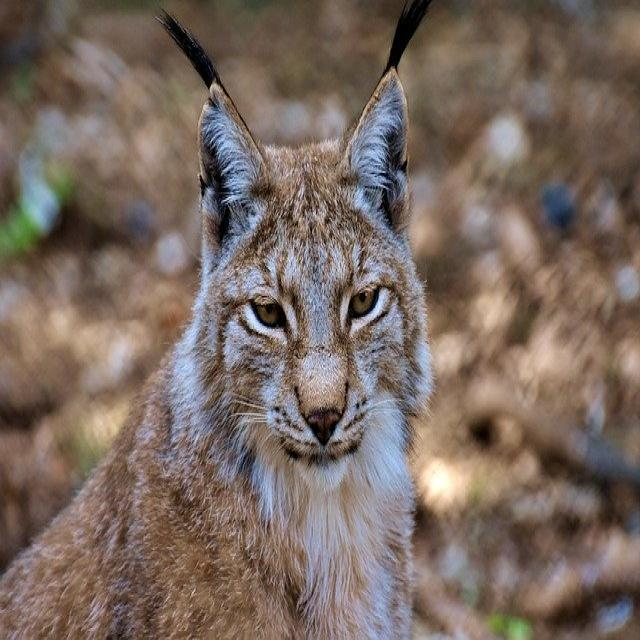Carnivorous: (0, 68, 434, 640)
